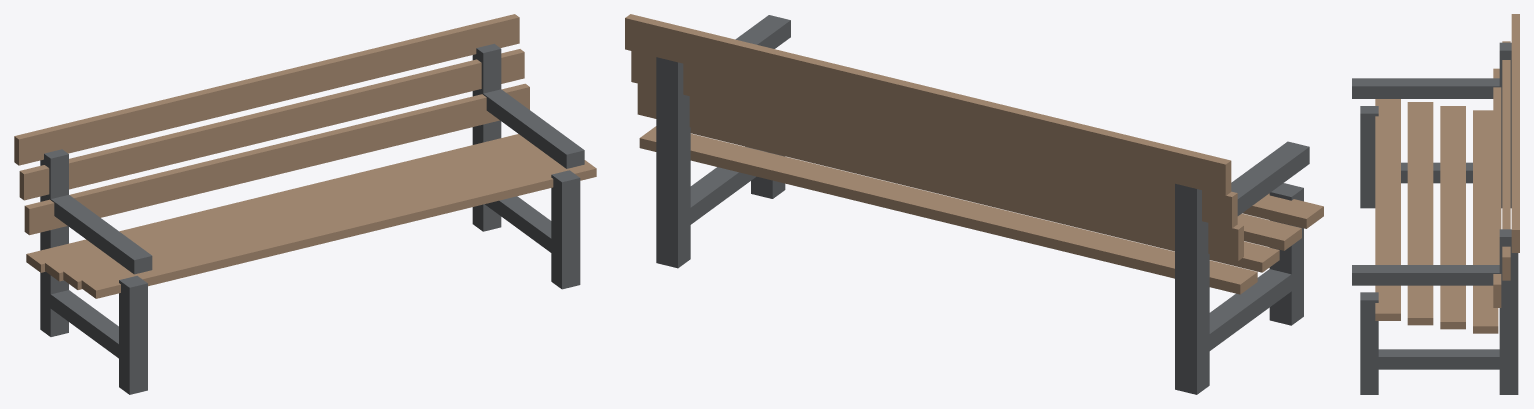
File: prop_promenade_bench.glb
The picture shows the model from 3 angles, left to right: view 1: azimuth 30°, elevation 25°; view 2: azimuth 150°, elevation 25°; view 3: azimuth 270°, elevation 25°; orthographic projection. The views are drawn at different scales.
Parts seen in each view (by area): view 1: Back_Slat_2, Back_Slat_1, Back_Slat_0, Seat_Slat_0, Seat_Slat_3, Seat_Slat_2, Seat_Slat_1, Bench_Leg_Front.001, Bench_Leg_Front, Bench_Armrest, Bench_Armrest.001, Bench_Leg_Rear (+3 smaller); view 2: Back_Slat_2, Back_Slat_1, Back_Slat_0, Seat_Slat_3, Bench_Leg_Rear.001, Bench_Leg_Rear, Seat_Slat_2, Bench_Base_Strut, Bench_Armrest, Bench_Leg_Front, Bench_Base_Strut.001, Seat_Slat_0 (+2 smaller); view 3: Seat_Slat_1, Seat_Slat_2, Seat_Slat_0, Seat_Slat_3, Bench_Armrest, Bench_Armrest.001, Bench_Leg_Rear.001, Bench_Base_Strut.001, Back_Slat_2, Back_Slat_0, Bench_Leg_Front.001, Back_Slat_1 (+3 smaller).
Part boxes in pixels (left/top/right/bottom): Back_Slat_2: left=14, top=14, right=519, bottom=165; Back_Slat_1: left=19, top=49, right=524, bottom=200; Back_Slat_0: left=24, top=83, right=529, bottom=235; Seat_Slat_0: left=81, top=160, right=596, bottom=298; Seat_Slat_3: left=26, top=134, right=531, bottom=272; Seat_Slat_2: left=45, top=144, right=544, bottom=281; Seat_Slat_1: left=63, top=153, right=558, bottom=289; Bench_Leg_Front.001: left=551, top=170, right=580, bottom=289; Bench_Leg_Front: left=119, top=275, right=147, bottom=394; Bench_Armrest: left=49, top=195, right=152, bottom=274; Bench_Armrest.001: left=483, top=89, right=584, bottom=168; Bench_Leg_Rear: left=40, top=149, right=68, bottom=336; Back_Slat_2: left=625, top=14, right=1231, bottom=195; Back_Slat_1: left=631, top=51, right=1237, bottom=228; Back_Slat_0: left=637, top=83, right=1243, bottom=260; Seat_Slat_3: left=639, top=126, right=1257, bottom=294; Bench_Leg_Rear.001: left=656, top=57, right=690, bottom=268; Bench_Leg_Rear: left=1175, top=183, right=1209, bottom=394; Seat_Slat_2: left=690, top=127, right=1279, bottom=272; Bench_Base_Strut: left=1203, top=269, right=1291, bottom=355; Bench_Armrest: left=1207, top=141, right=1309, bottom=237; Bench_Leg_Front: left=1269, top=183, right=1303, bottom=325; Bench_Base_Strut.001: left=684, top=146, right=778, bottom=228; Seat_Slat_0: left=1242, top=193, right=1323, bottom=228; Seat_Slat_1: left=1407, top=102, right=1433, bottom=325; Seat_Slat_2: left=1440, top=106, right=1465, bottom=329; Seat_Slat_0: left=1375, top=99, right=1400, bottom=320; Seat_Slat_3: left=1473, top=110, right=1498, bottom=333; Bench_Armrest: left=1352, top=78, right=1502, bottom=98; Bench_Armrest.001: left=1352, top=265, right=1502, bottom=285; Bench_Leg_Rear.001: left=1499, top=229, right=1518, bottom=394; Bench_Base_Strut.001: left=1369, top=349, right=1508, bottom=369; Back_Slat_2: left=1511, top=14, right=1519, bottom=252; Back_Slat_0: left=1493, top=68, right=1501, bottom=307; Bench_Leg_Front.001: left=1360, top=292, right=1378, bottom=394; Back_Slat_1: left=1502, top=41, right=1510, bottom=280.
Bounding box in the file's own units: 2.2 × 0.835 × 0.7225.
